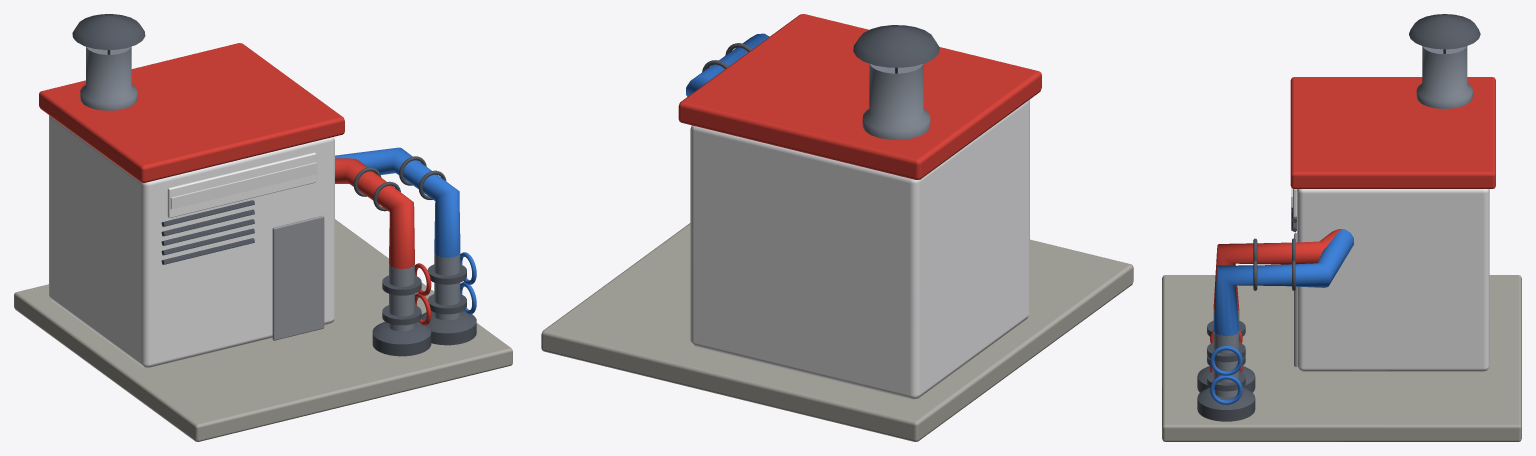
The model's file is Geothermal.fbx.
3 renders of one model, left to right at view 1: azimuth 30°, elevation 25°; view 2: azimuth 150°, elevation 25°; view 3: azimuth 270°, elevation 25°, orthographic. The views are drawn at different scales.
Visible parts, largest first — view 1: Body__White, Body__Concrete, Body__Red, Body__MetalDark, Body__Grey, Body__Steel, Body__Blue, Body__Red!1; view 2: Body__White, Body__Concrete, Body__Red, Body__Steel, Body__MetalDark, Body__Blue; view 3: Body__Concrete, Body__White, Body__Red, Body__MetalDark, Body__Blue, Body__Steel.
Boxes of the visible parts, x1,y1,x2,y2 form: Body__White: (49, 115, 334, 367); Body__Concrete: (14, 219, 512, 441); Body__Red: (39, 43, 431, 325); Body__MetalDark: (72, 14, 476, 356); Body__Grey: (272, 215, 324, 340); Body__Steel: (80, 46, 460, 331); Body__Blue: (335, 147, 476, 314); Body__Red!1: (170, 162, 317, 209); Body__White: (690, 99, 1029, 399); Body__Concrete: (541, 223, 1133, 441); Body__Red: (678, 14, 1041, 179); Body__Steel: (862, 63, 930, 139); Body__MetalDark: (702, 25, 939, 73); Body__Blue: (686, 33, 769, 96); Body__Concrete: (1162, 275, 1521, 441); Body__White: (1293, 189, 1489, 371); Body__Red: (1210, 77, 1495, 372); Body__MetalDark: (1197, 14, 1480, 421); Body__Blue: (1210, 229, 1353, 404); Body__Steel: (1213, 46, 1472, 397).
Bounding box in the file's own units: 5.6 × 5.68 × 5.6.
